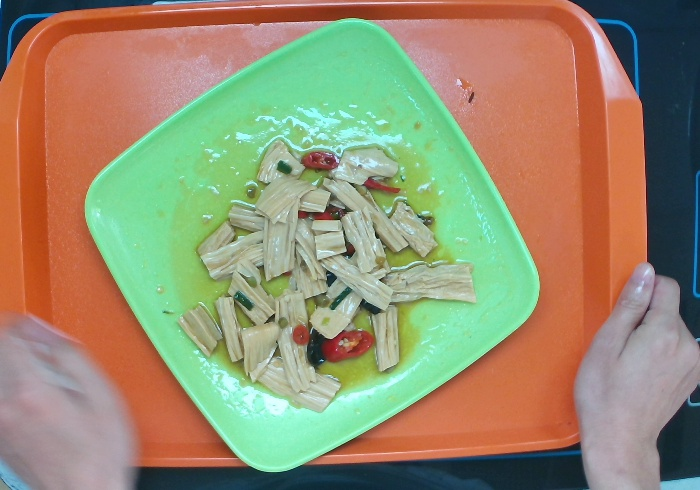ZNLD-Lv_Fang_Pan: (79, 15, 546, 477)
